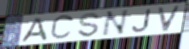A: (19, 17, 49, 44)
C: (49, 12, 77, 42)
J: (131, 8, 154, 34)
N: (100, 9, 130, 38)
S: (77, 12, 101, 38)
V: (157, 4, 182, 33)
